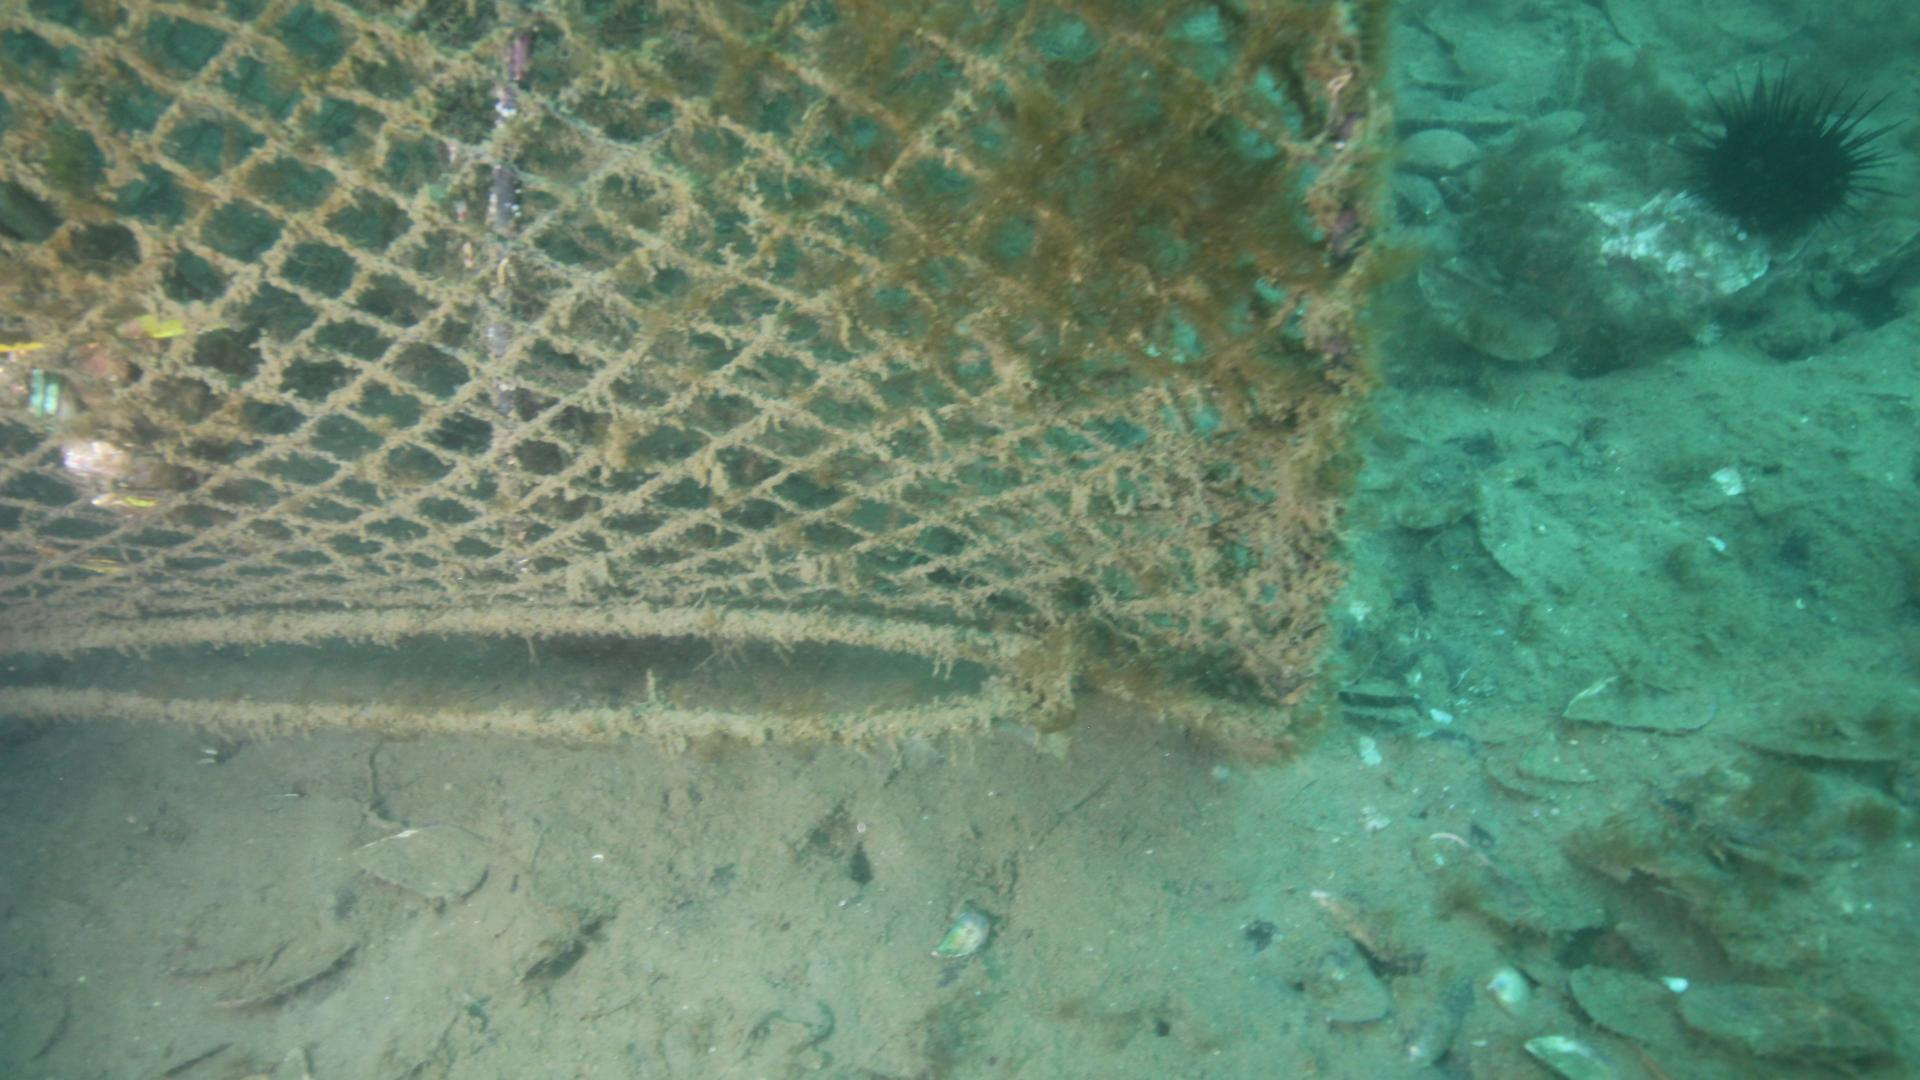fish net: (0, 0, 1303, 618)
